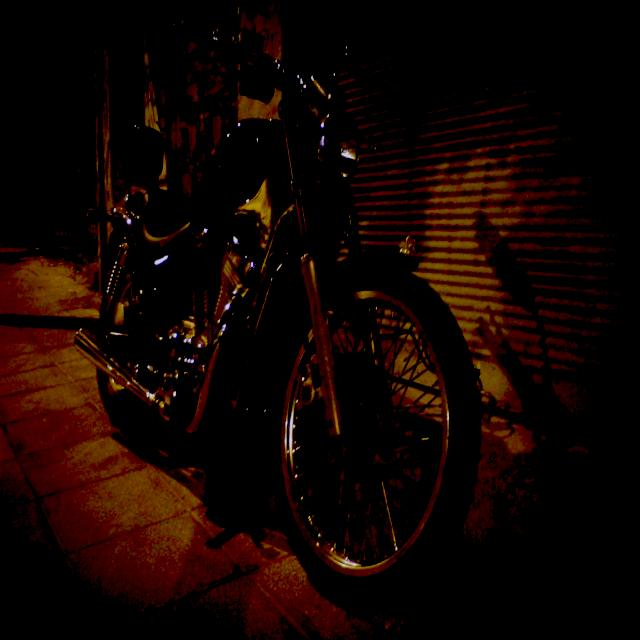Motorbike: (60, 54, 497, 613)
